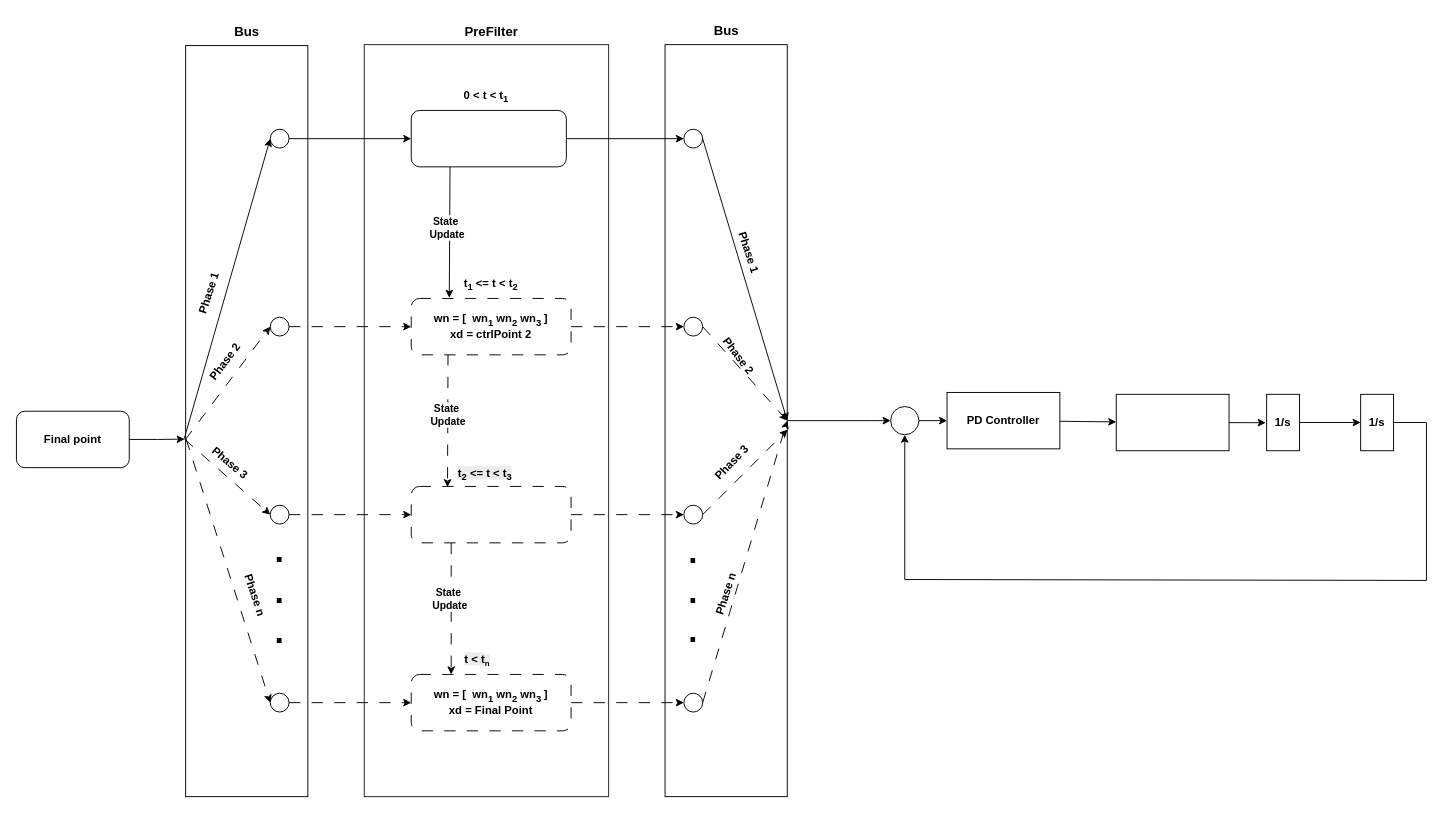
The diagram is 1450 pixels wide and 813 high, and some of its shapes have lost their labels. Here are the shapes that lost their labels. From the top down, the centre of each, then its label:
At point 488,138: "wn = [ wn 1 wn 2 wn 3 ] xd = ctrlPoint 1".
At point 1172,422: "Plant".
At point 490,514: "wn = [ wn 1 wn 2 wn 3 ] xd = ctrlPoint 3".
